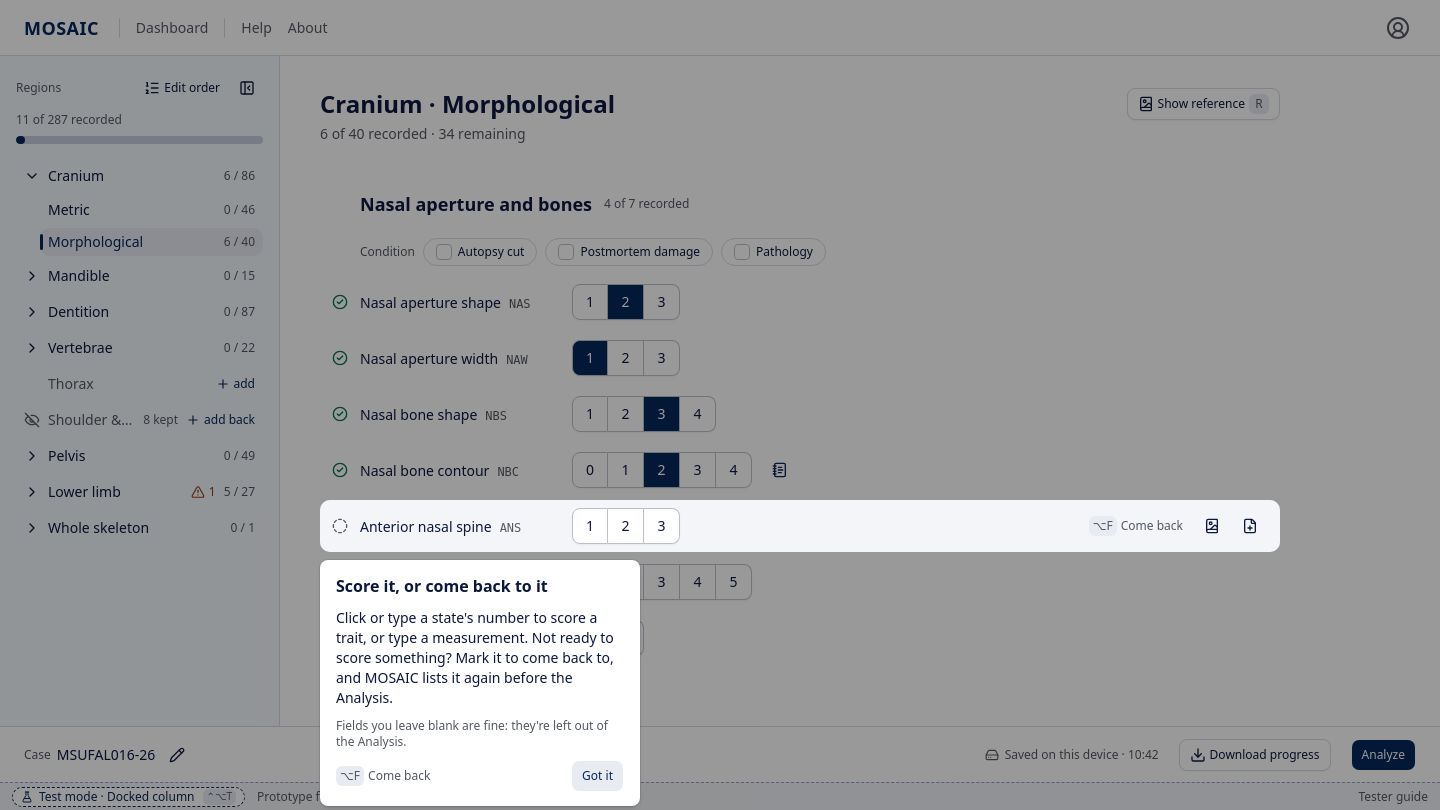
Test case: Continue under each policy › 2.5 · never asks, and collects flags in the pre-Analysis check
Type keys "{Alt>}f{/Alt}"
(page scrolled)
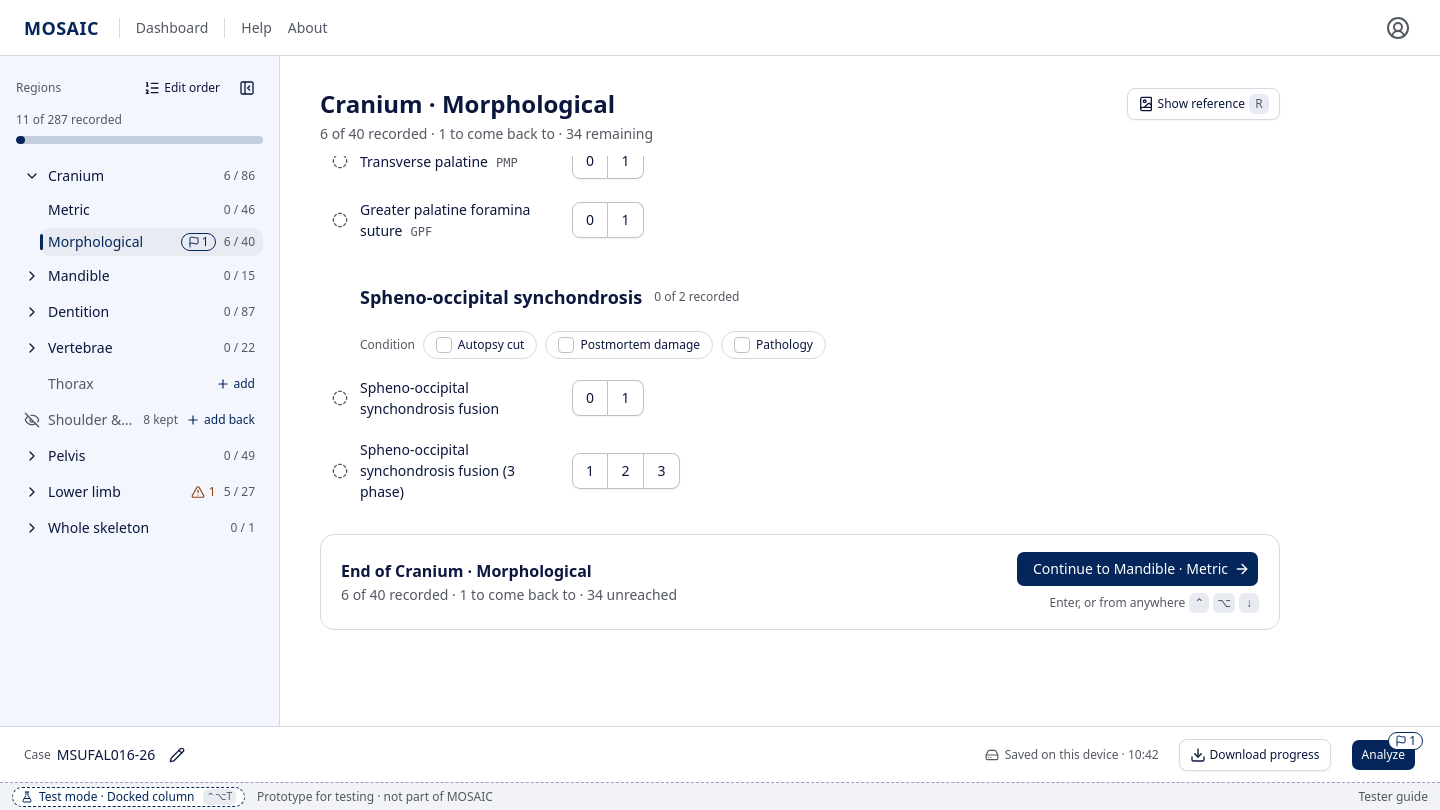
Click the button "Continue to Mandible · Metric".
click(1138, 569)  # box 1016,551 -> 1259,587
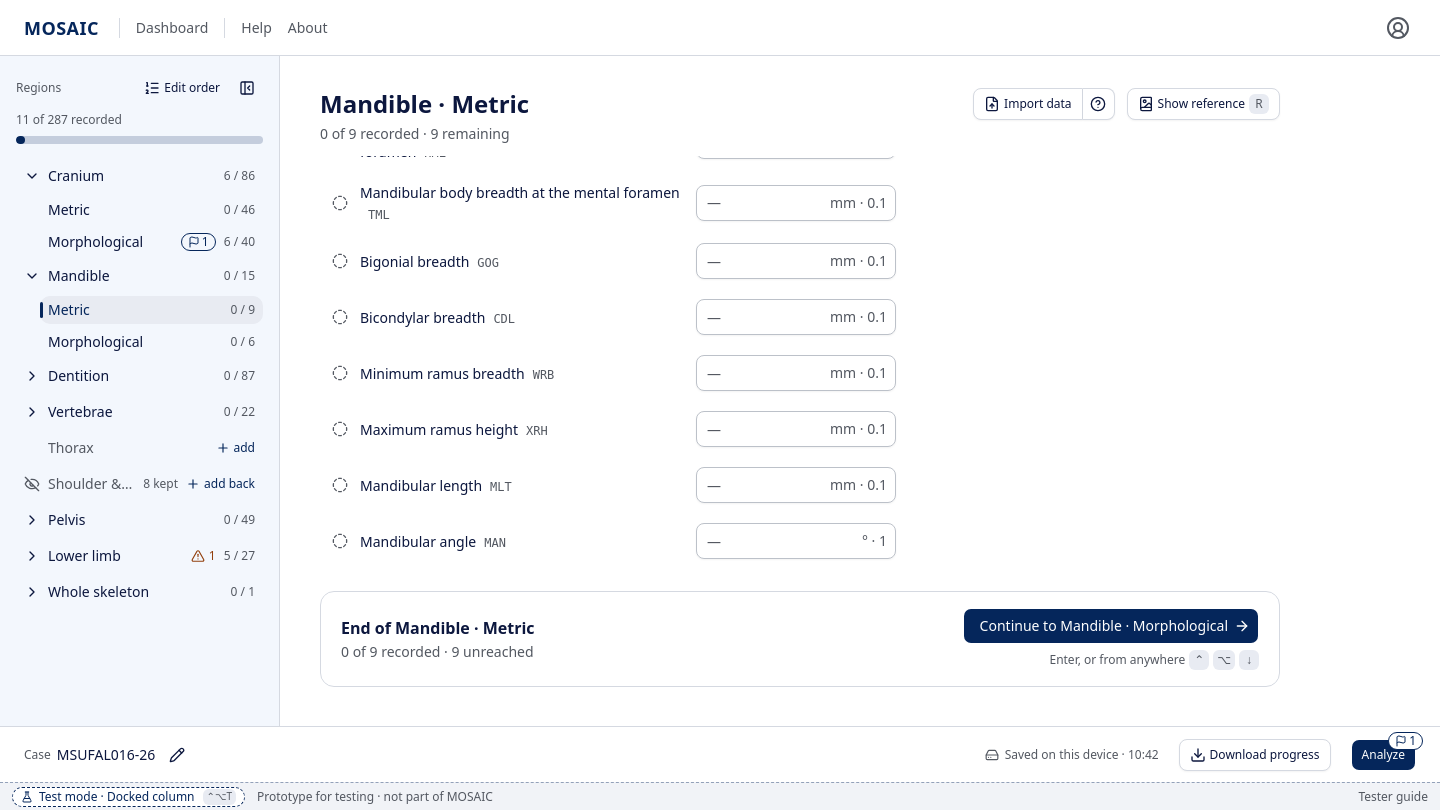
Now the heading reads "Mandible · Metric", box 320,87 -> 529,120
Click the button "Analyze 1".
click(1383, 754)  # box 1350,738 -> 1416,770
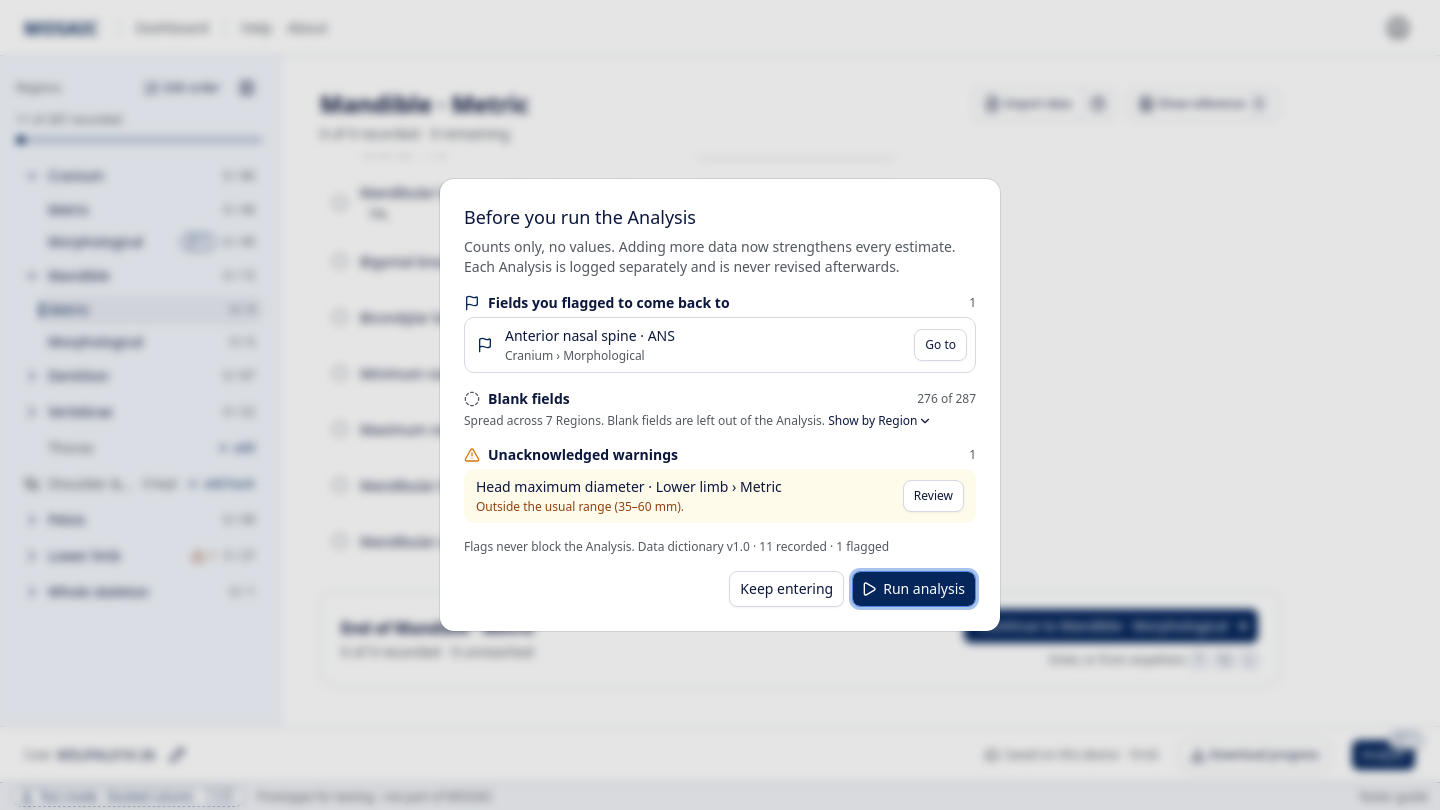
Now the dialog shows "Fields you flagged to come back to", box 488,293 -> 730,312
Now the dialog shows "Anterior nasal spine · ANS", box 505,326 -> 675,345
Now the dialog shows "Unacknowledged warnings", box 488,445 -> 678,464
